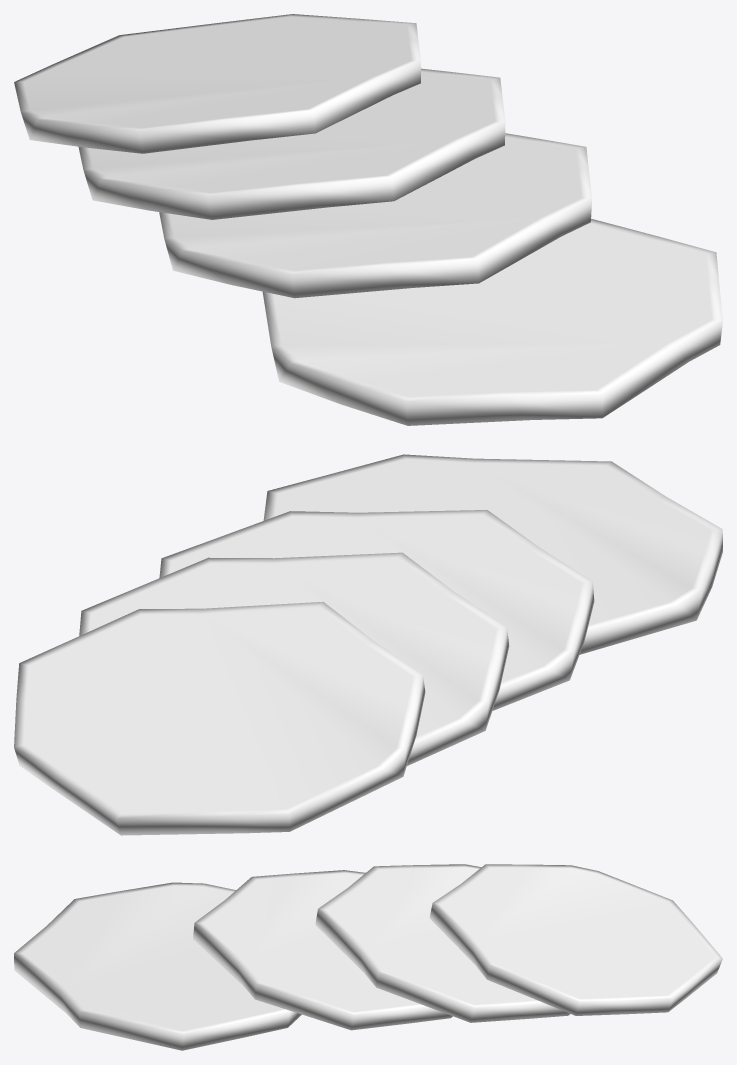
File: Potato_Cutted.fbx
3 renders of one model, top to bottom at view 1: azimuth 30°, elevation 25°; view 2: azimuth 150°, elevation 25°; view 3: azimuth 270°, elevation 25°, orthographic. The views are drawn at different scales.
Parts seen in each view (by area): view 1: Potato_Cutted; view 2: Potato_Cutted; view 3: Potato_Cutted.
Part boxes in pixels (left/top/right/bottom): Potato_Cutted: left=14, top=14, right=722, bottom=425; Potato_Cutted: left=14, top=454, right=722, bottom=835; Potato_Cutted: left=14, top=864, right=722, bottom=1050.
Bounding box in the file's own units: 6.32 × 12.36 × 1.31.
